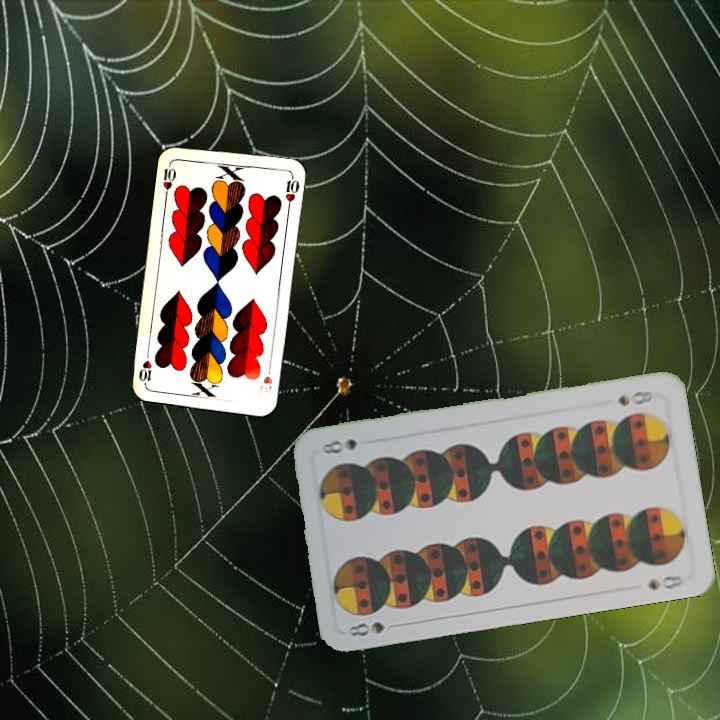H10: (159, 159, 179, 199), (256, 361, 275, 396)
S8: (345, 617, 403, 639), (613, 387, 655, 408)
